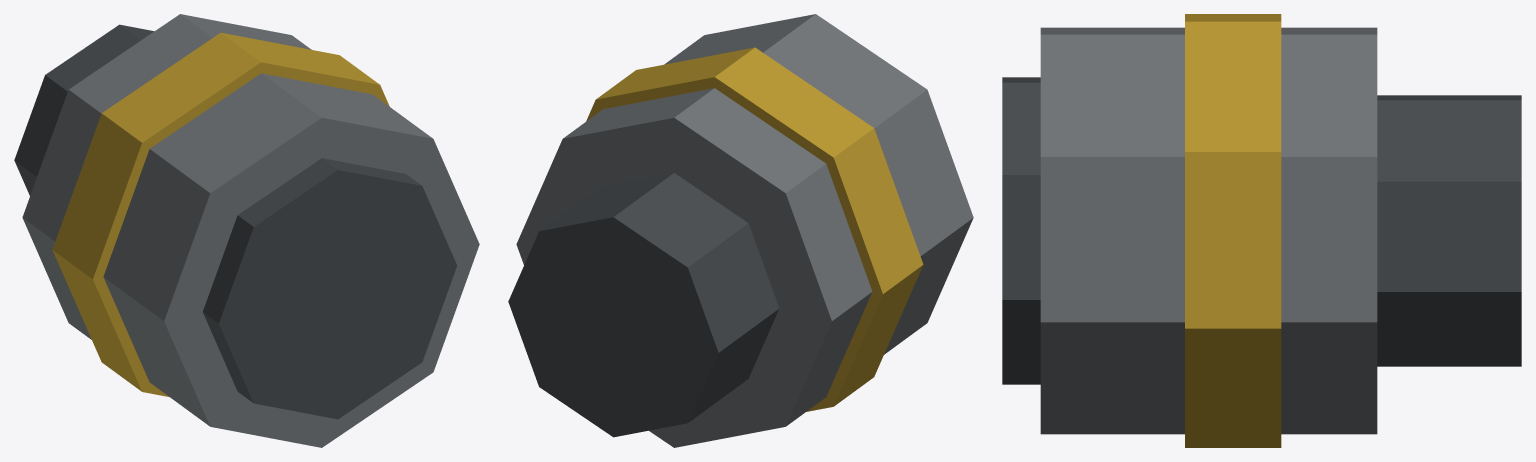
File: mod_helmet_filter.glb
The picture shows the model from 3 angles, left to right: view 1: azimuth 30°, elevation 25°; view 2: azimuth 150°, elevation 25°; view 3: azimuth 270°, elevation 25°; orthographic projection. The views are drawn at different scales.
Visible parts, largest first — view 1: filter; view 2: filter; view 3: filter.
Part boxes in pixels (x1,y1,x2,y2): filter: (14,14,479,447); filter: (508,14,973,447); filter: (1002,14,1521,447).
Size of the model in its own units: 0.096 by 0.096 by 0.108.
